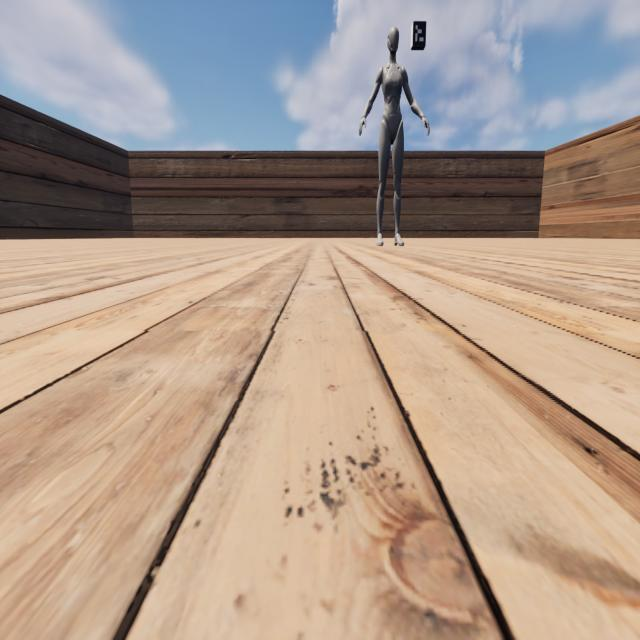aruco: (413, 21, 427, 46)
hip: (381, 120, 404, 128)
